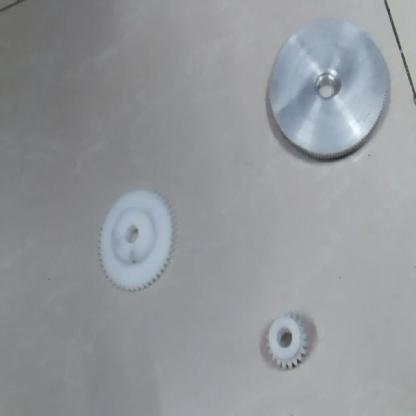FOD: (261, 17, 392, 164), (98, 190, 178, 298), (264, 304, 314, 375)
